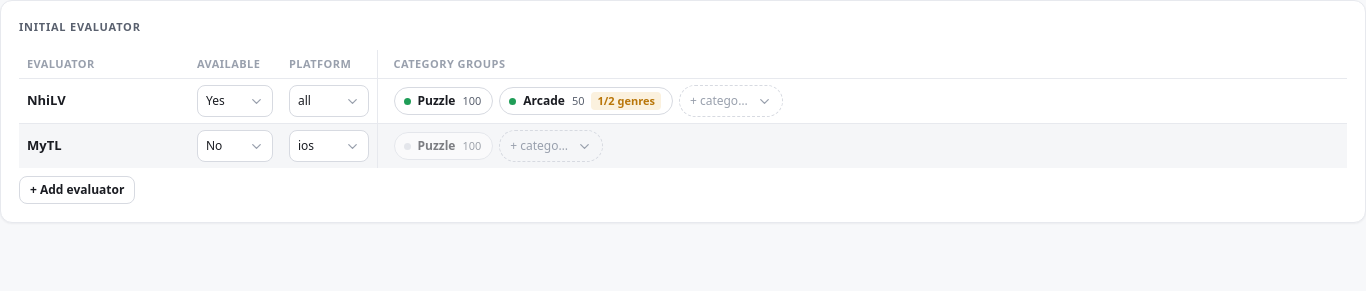
Test: RosterTable › a pill expands into a panel row and collapses again
The width and height of the screenshot is (1366, 291).
Click the button "Arcade 50 1/2 genres": click(586, 101) top-left (499, 87), bottom-right (673, 115)
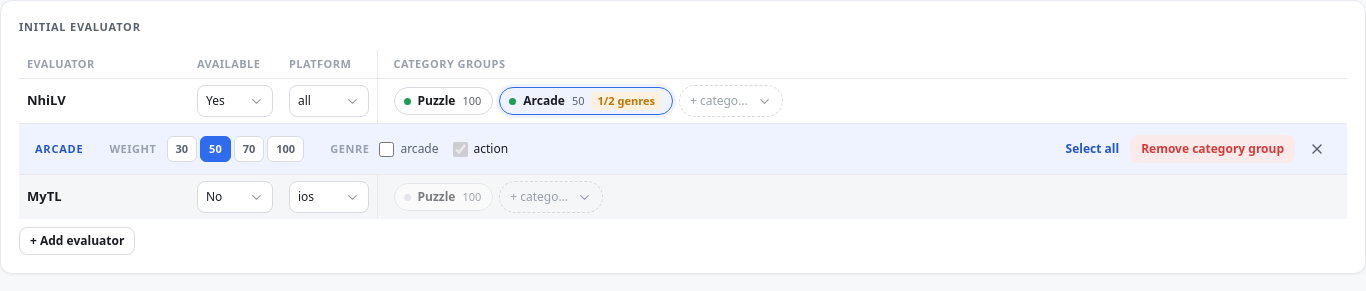
Result: the button "Arcade 50 1/2 genres" is expanded
Result: the number of rows with class "genre-xrow" is 1 at top-left (19, 124), bottom-right (1347, 174)
Click the button "Arcade 50 1/2 genres": click(586, 101) top-left (499, 87), bottom-right (673, 115)
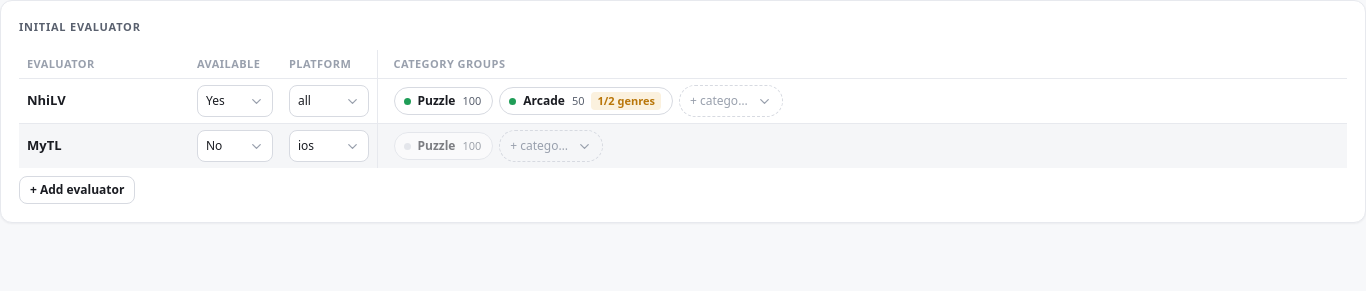
Result: no rows with class "genre-xrow" are shown
